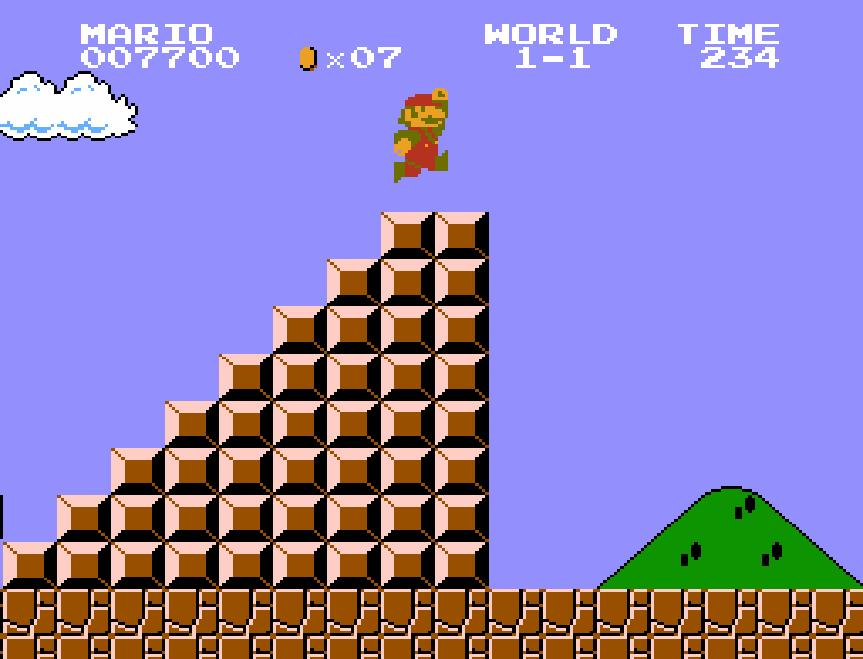big_mario: (392, 86, 450, 184)
